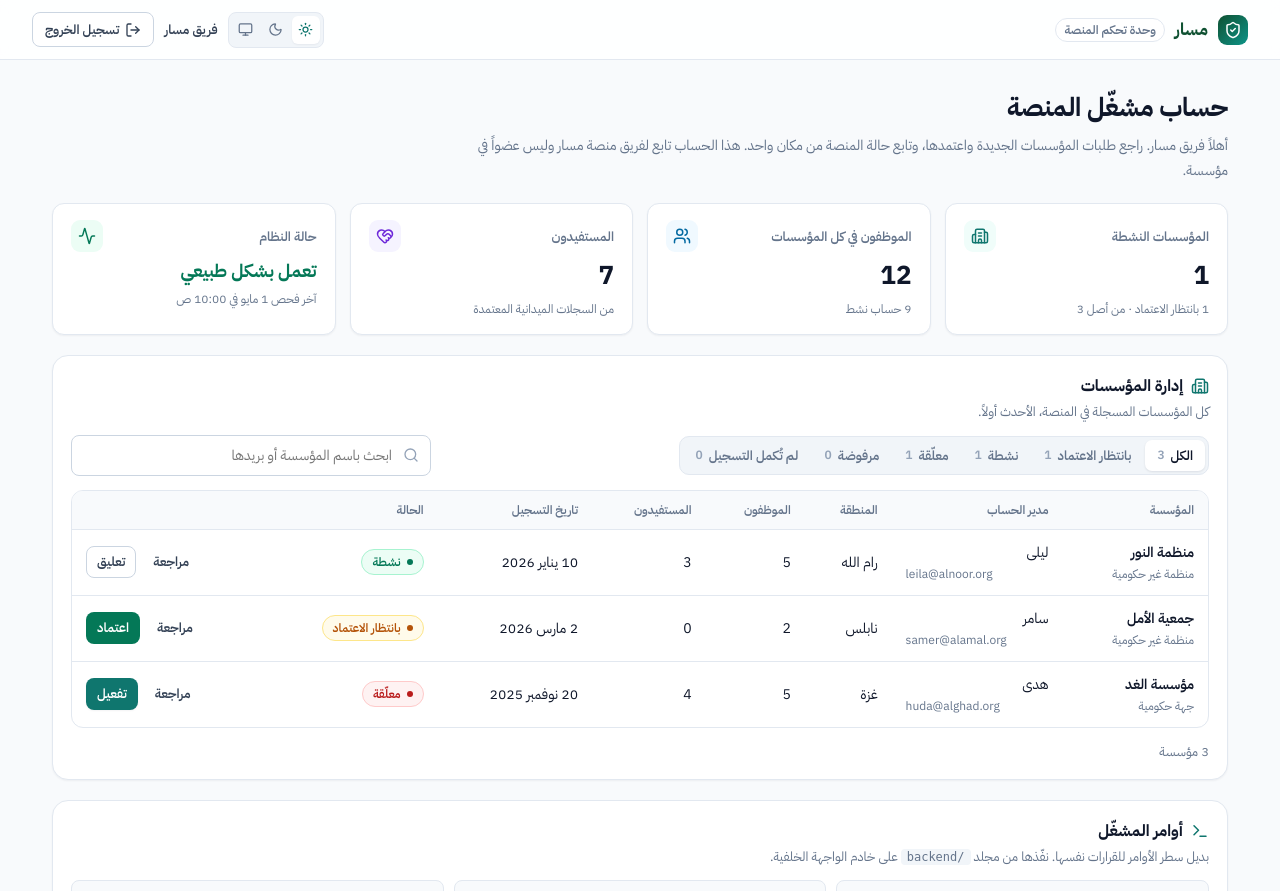
operator console (the only screen of a platform operator) › inspects the admin's verification state without ever showing the code, and can send a fresh one
Later steps or results of the test are not shown.
Click the button with aria-label "مراجعة جمعية الأمل": [175, 628] box [146,612,204,644]
(page scrolled)
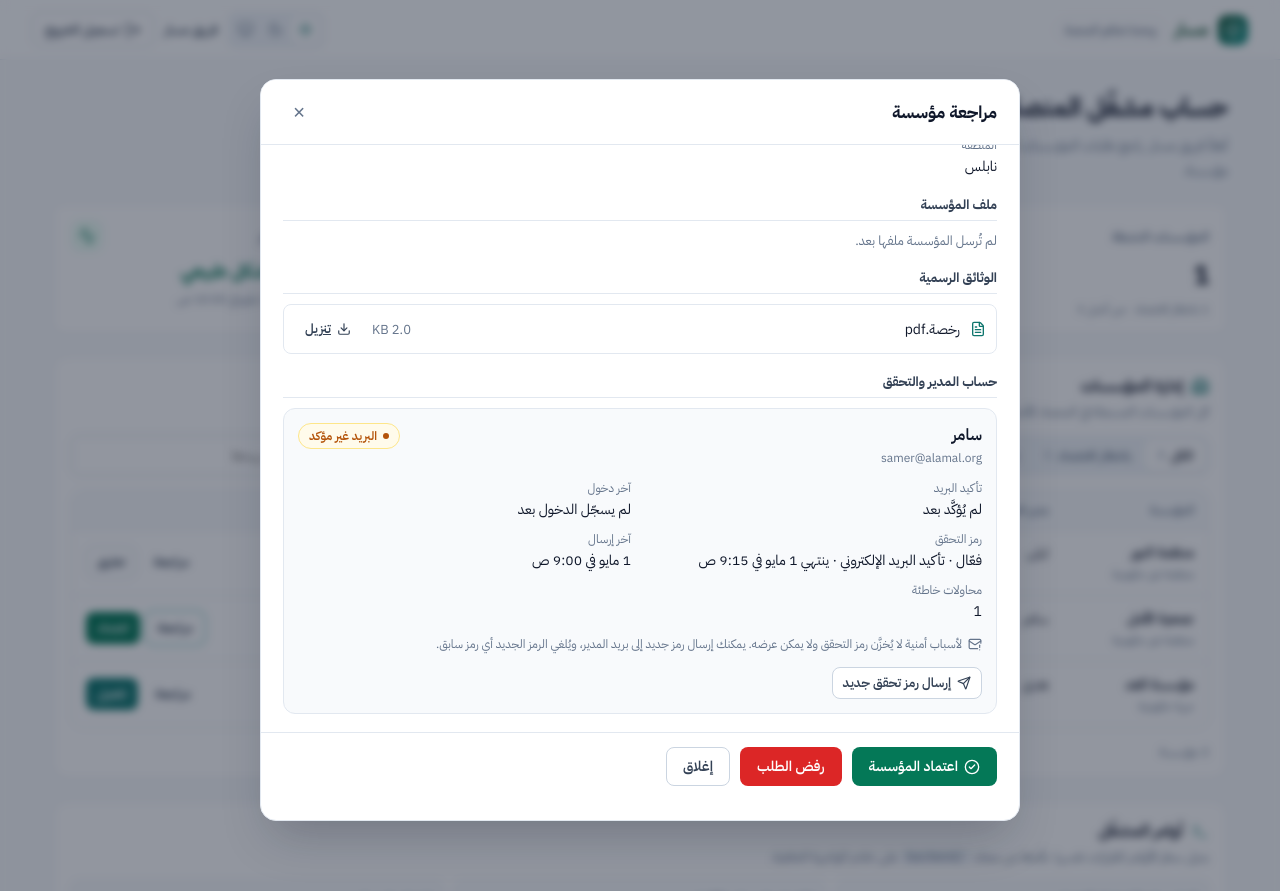
Now the text "البريد غير مؤكد" is shown, box [298,423,400,449]
Now the text "لا يُخزَّن رمز التحقق" is shown, box [436,635,962,653]
